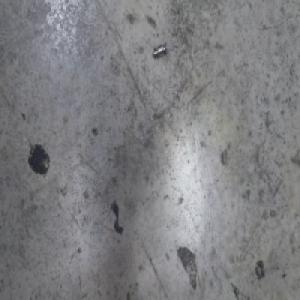Bolt: (152, 41, 167, 60)
